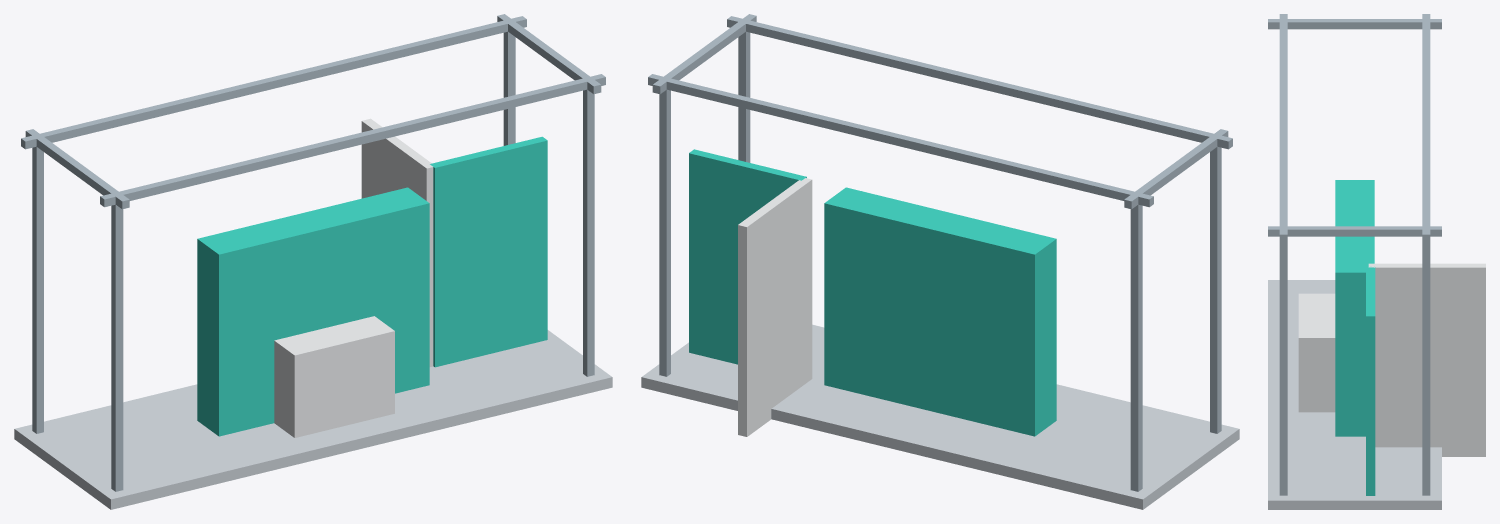
3 views of the same model, side by side, from view 1: azimuth 30°, elevation 25°; view 2: azimuth 150°, elevation 25°; view 3: azimuth 270°, elevation 25° (orthographic). The views are drawn at different scales.
Visible parts, largest first — view 1: Exhibition Booth Concept; view 2: Exhibition Booth Concept; view 3: Exhibition Booth Concept.
Boxes of the visible parts, box(x1,y1,x2,y2) form: Exhibition Booth Concept: box(14, 14, 612, 509); Exhibition Booth Concept: box(641, 14, 1239, 509); Exhibition Booth Concept: box(1268, 14, 1485, 509).
Size of the model in its own units: 6 by 3.49 by 2.5.
